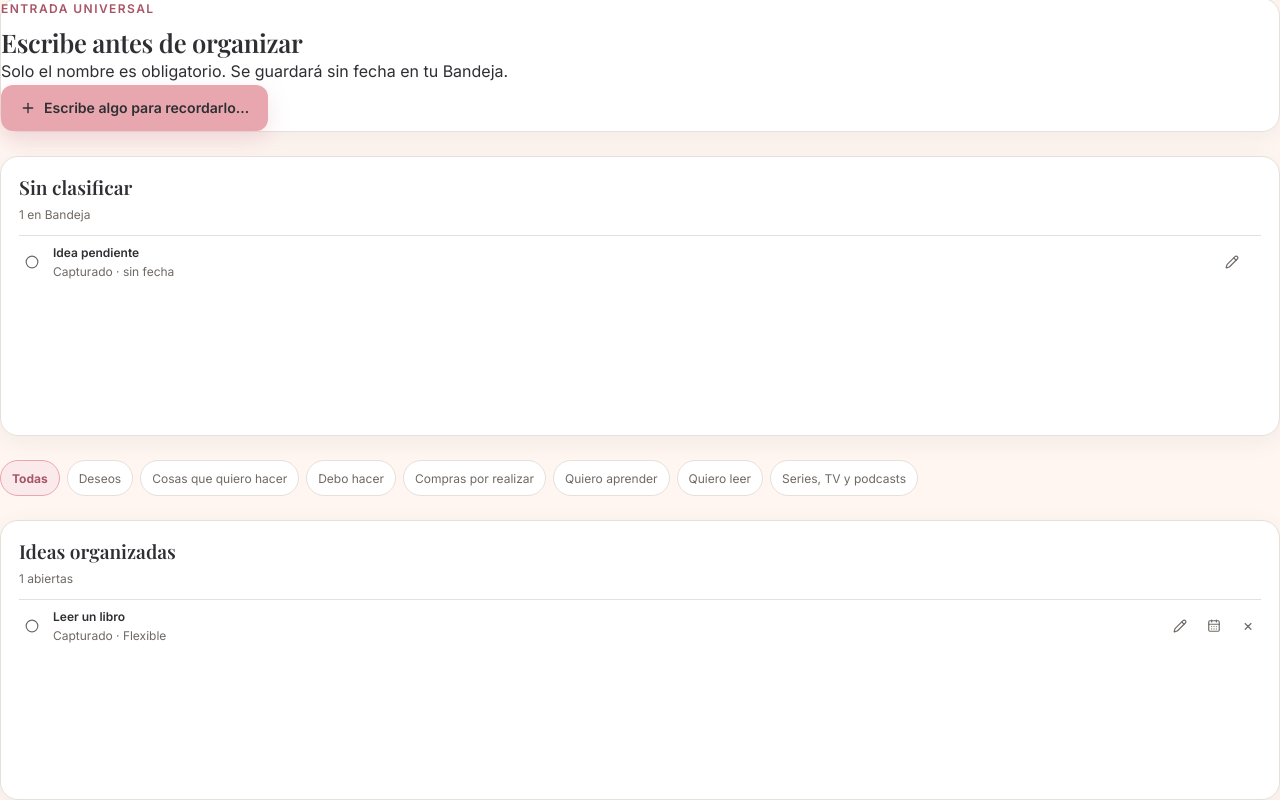
LifeHub saved editors › locks conversion controls until a failed save settles and retains the submitted draft
This screenshot has width=1280, height=800.
(page scrolled)
Click the button named "Convertir Leer un libro en acción" at coordinates (1214, 626), box 1201,613 -> 1227,639
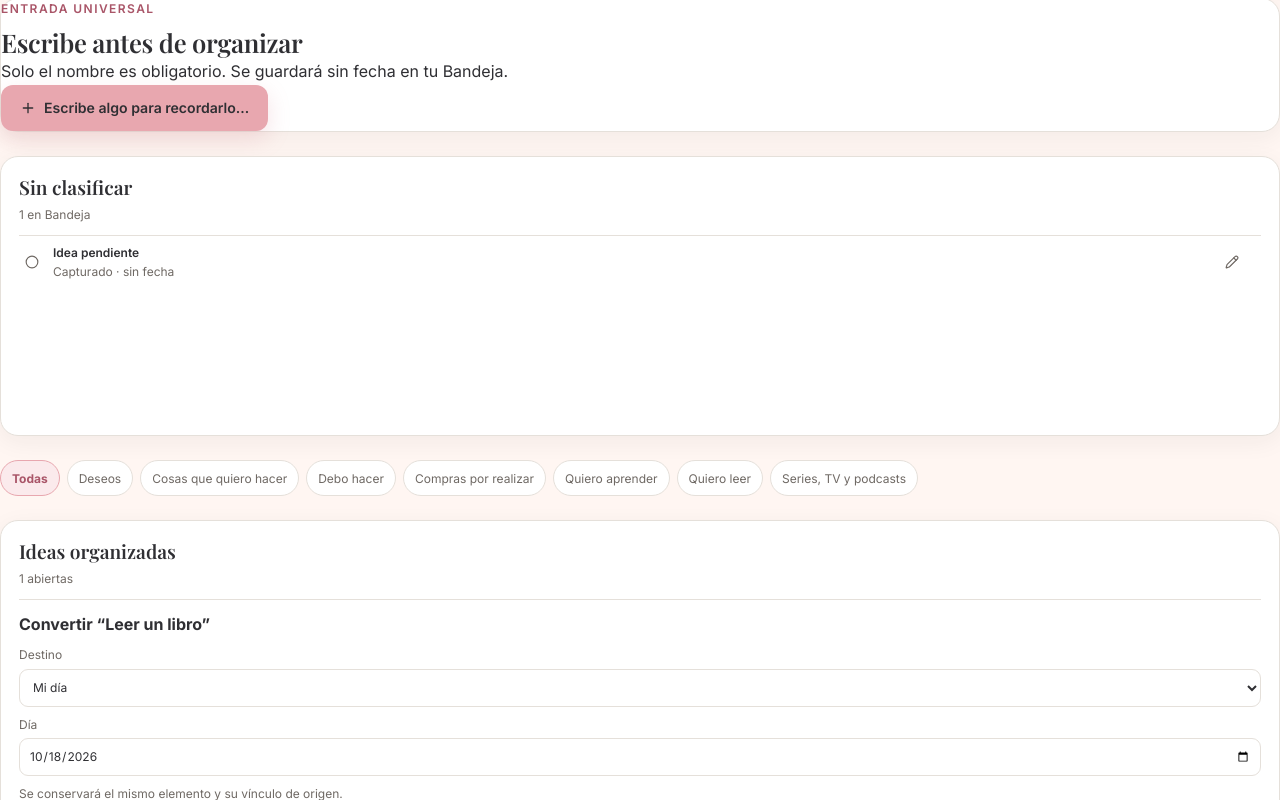
Select "Semana" in the dropdown labelled "Destino" at coordinates (640, 688), box 19,668 -> 1261,706
(page scrolled)
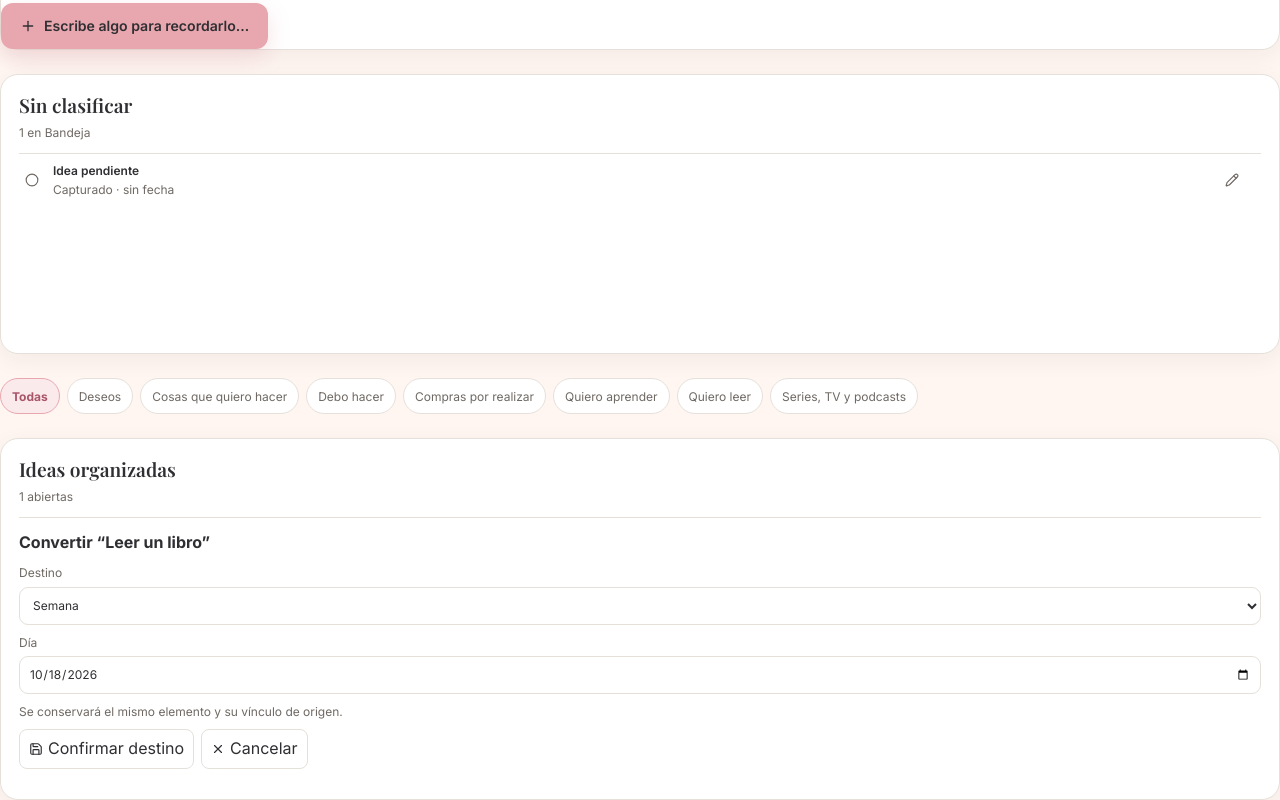
Click the button "Confirmar destino" at coordinates (107, 749), box 19,729 -> 194,768
(page scrolled)
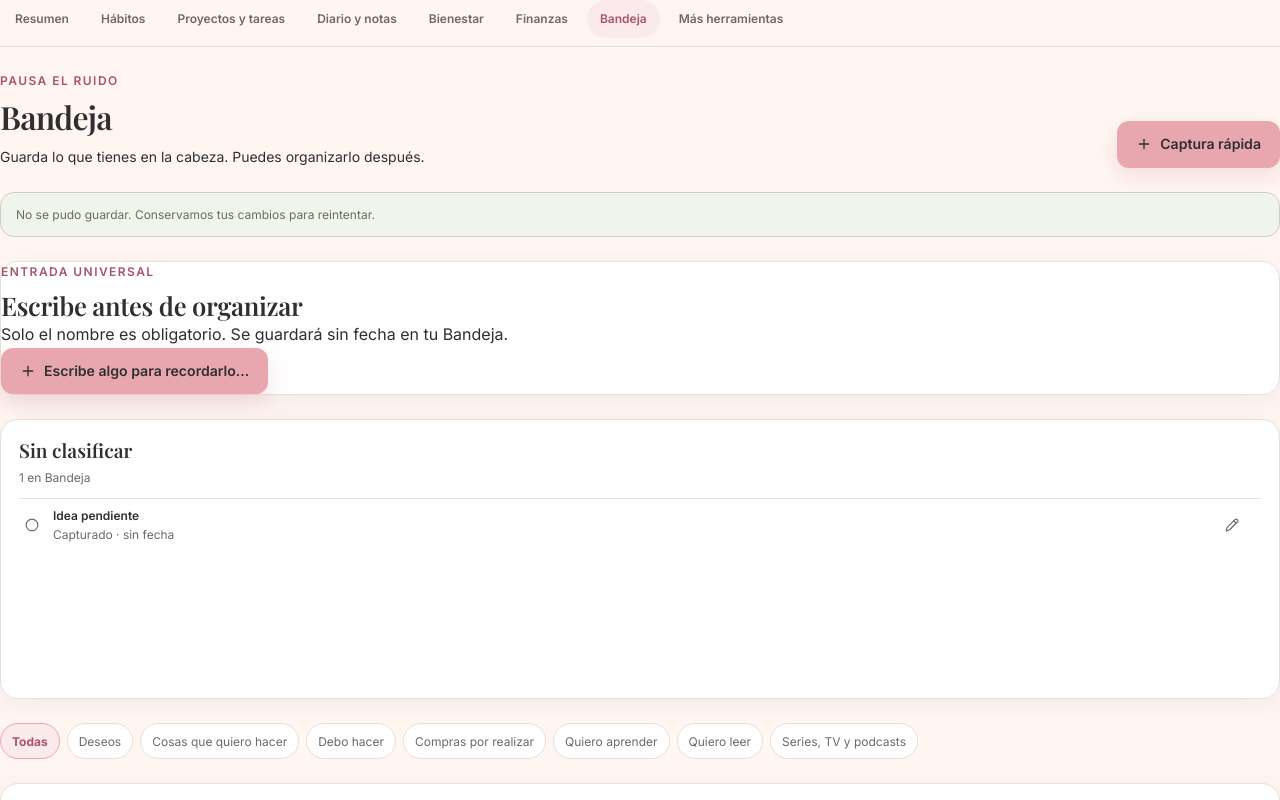
Expected: the message shows "Conservamos", 16,207 -> 375,222
